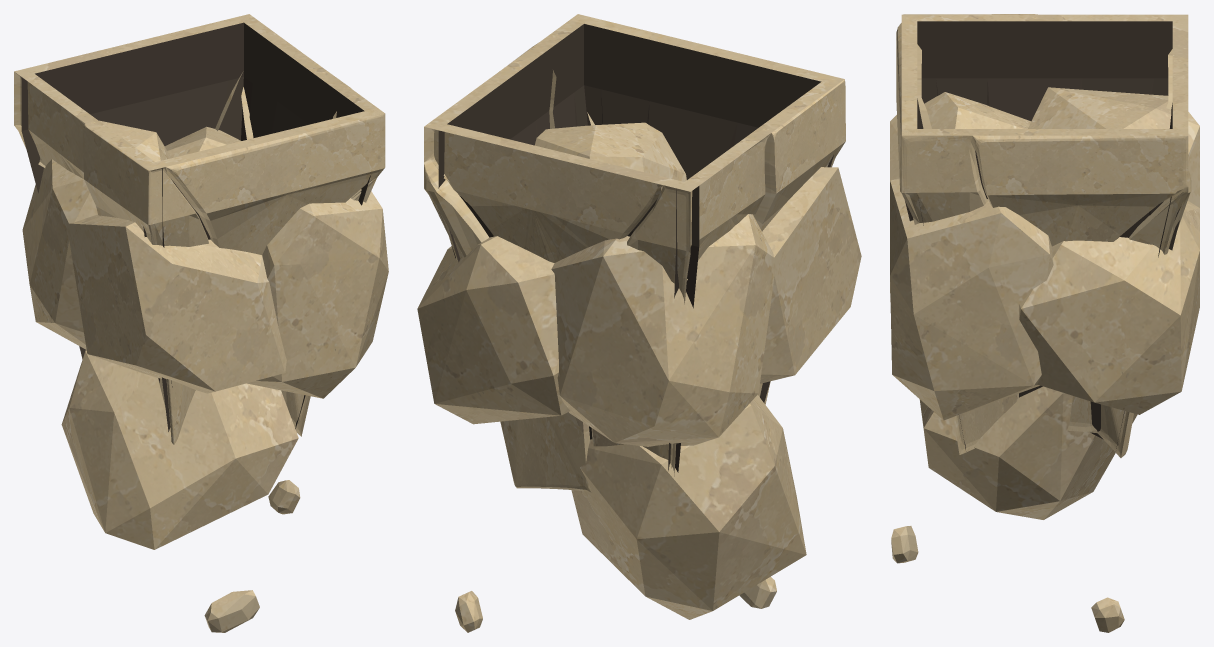
Rendered from ground_bottom_square_island_05.glb.
3 views of the same model, side by side, from view 1: azimuth 30°, elevation 25°; view 2: azimuth 150°, elevation 25°; view 3: azimuth 270°, elevation 25° (orthographic). The views are drawn at different scales.
Parts seen in each view (by area): view 1: GroundBottomSquareIsland05_Body; view 2: GroundBottomSquareIsland05_Body; view 3: GroundBottomSquareIsland05_Body.
Boxes of the visible parts, left/top/right/bottom form: GroundBottomSquareIsland05_Body: left=14, top=14, right=388, bottom=632; GroundBottomSquareIsland05_Body: left=417, top=14, right=861, bottom=632; GroundBottomSquareIsland05_Body: left=890, top=14, right=1199, bottom=632.
Size of the model in its own units: 1.08 by 1.96 by 1.08.
15 materials, 14 textured.
